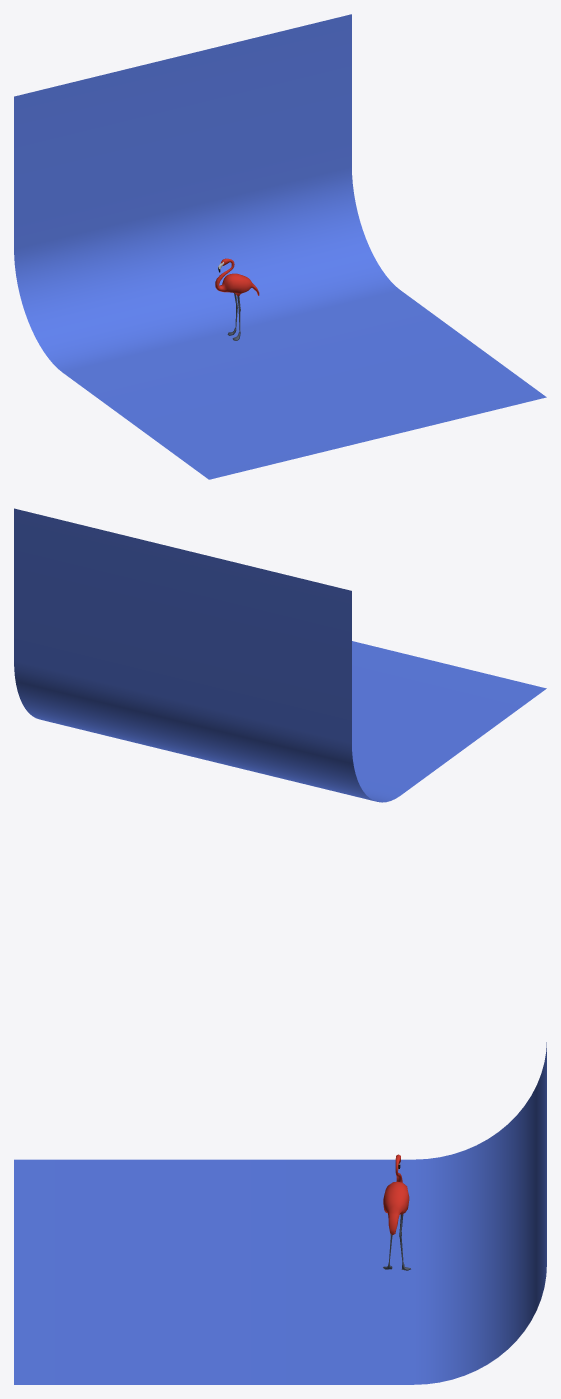
The model's file is flamingo_2.fbx.
The picture shows the model from 3 angles, top to bottom: view 1: azimuth 30°, elevation 25°; view 2: azimuth 150°, elevation 25°; view 3: azimuth 270°, elevation 25°; orthographic projection. The views are drawn at different scales.
Visible parts, largest first — view 1: Plane.001, flamingo; view 2: Plane.001; view 3: Plane.001, flamingo.
Boxes of the visible parts, x1=… form: Plane.001: x1=14, y1=14, x2=546, y2=479; flamingo: x1=215, y1=258, x2=259, y2=340; Plane.001: x1=14, y1=508, x2=546, y2=802; Plane.001: x1=14, y1=1042, x2=546, y2=1384; flamingo: x1=383, y1=1154, x2=410, y2=1270.
Size of the model in its own units: 7600 by 5170 by 7600.
